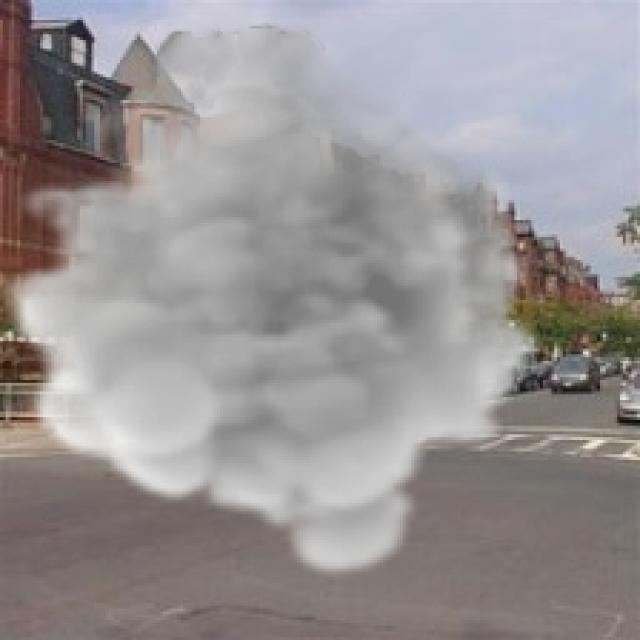smoke: (0, 20, 540, 583)
